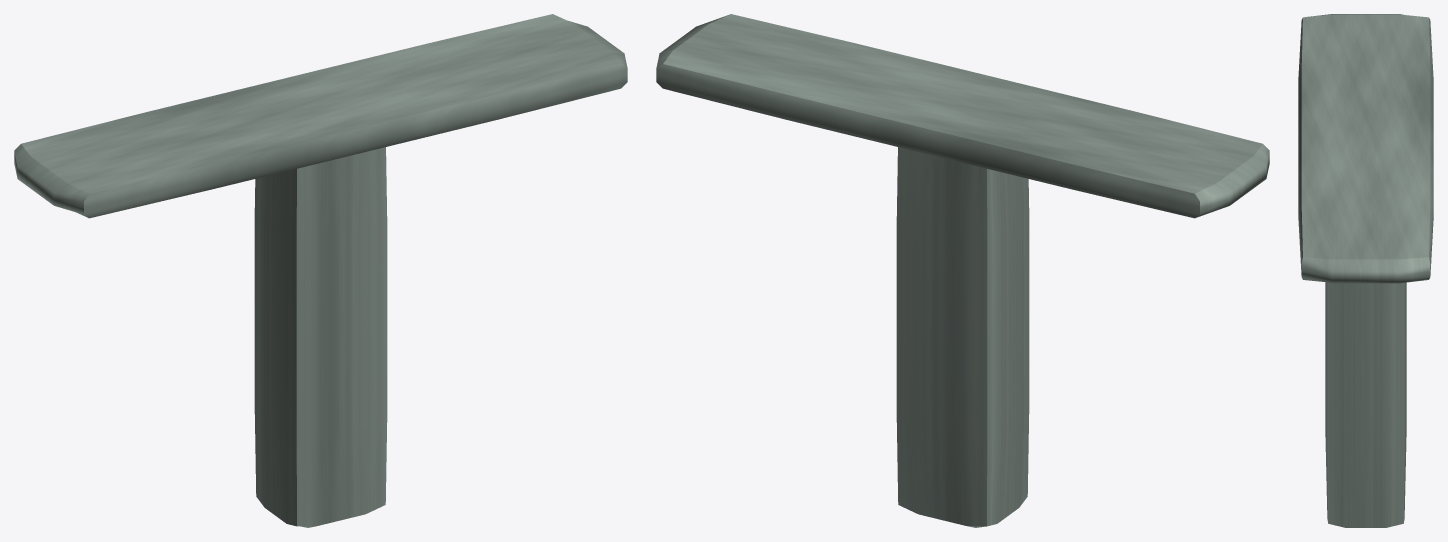
File: bridge_support.glb
3 views of the same model, side by side, from view 1: azimuth 30°, elevation 25°; view 2: azimuth 150°, elevation 25°; view 3: azimuth 270°, elevation 25° (orthographic). The views are drawn at different scales.
Parts seen in each view (by area): view 1: static_stone; view 2: static_stone; view 3: static_stone.
Part boxes in pixels (box(x1,y1,x2,y2)): static_stone: box(14, 14, 627, 527); static_stone: box(656, 14, 1269, 527); static_stone: box(1298, 14, 1433, 527).
Size of the model in its own units: 9 by 6.2 by 2.
Materials: 1 (1 with a texture image).
